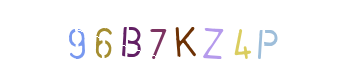4: (165, 0, 245, 80)
6: (76, 0, 156, 80)
7: (106, 0, 186, 80)
9: (37, 0, 117, 80)
B: (101, 0, 181, 80)
K: (135, 0, 215, 80)
P: (171, 0, 251, 80)
Z: (143, 0, 223, 80)
